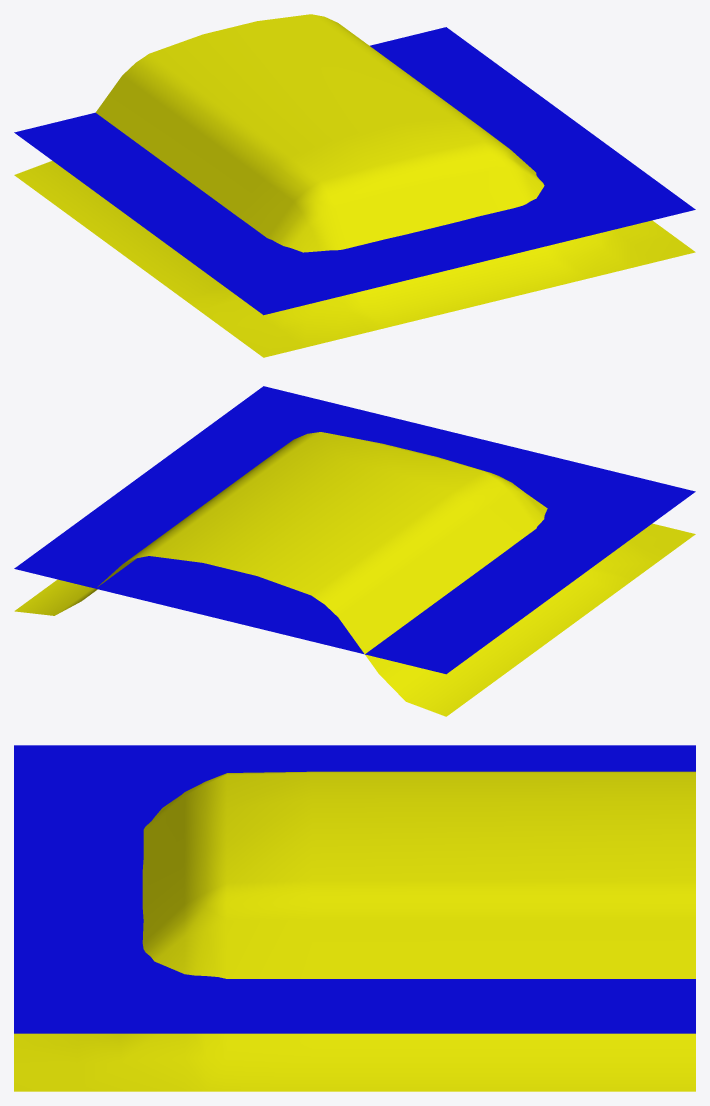
The model's file is Swamp_Lane_End.fbx.
The picture shows the model from 3 angles, top to bottom: view 1: azimuth 30°, elevation 25°; view 2: azimuth 150°, elevation 25°; view 3: azimuth 270°, elevation 25°; orthographic projection. The views are drawn at different scales.
Visible parts, largest first — view 1: path_low, water_low; view 2: path_low, water_low; view 3: path_low, water_low.
Boxes of the visible parts, left/top/right/bottom form: path_low: left=14, top=14, right=695, bottom=357; water_low: left=14, top=27, right=695, bottom=315; path_low: left=14, top=432, right=695, bottom=716; water_low: left=14, top=386, right=695, bottom=674; path_low: left=14, top=771, right=695, bottom=1091; water_low: left=14, top=745, right=695, bottom=1033.
Bounding box in the file's own units: 2 × 0.4182 × 2.
